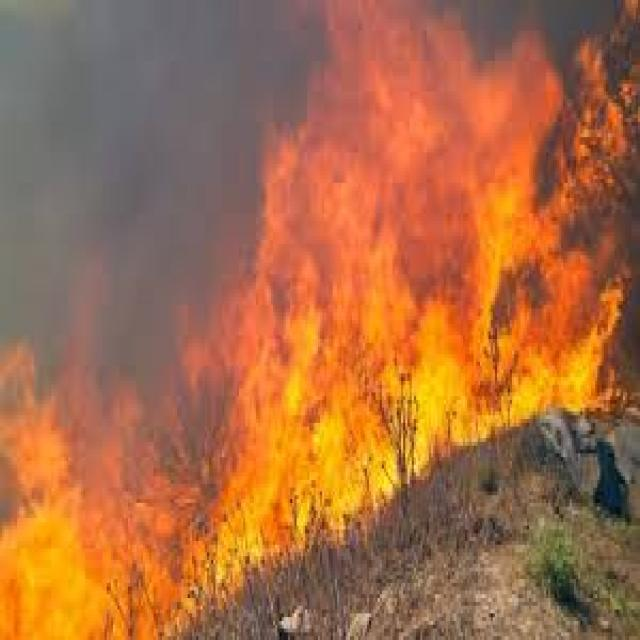Fire: (272, 104, 597, 406), (4, 365, 187, 640)
Smoke: (6, 9, 219, 286)
